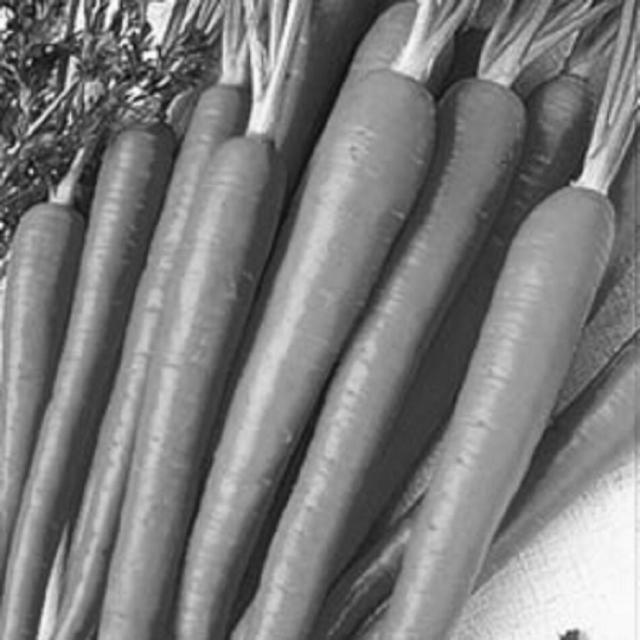Fresh_Carrot: (205, 73, 423, 640), (370, 194, 628, 640), (10, 119, 177, 640)
